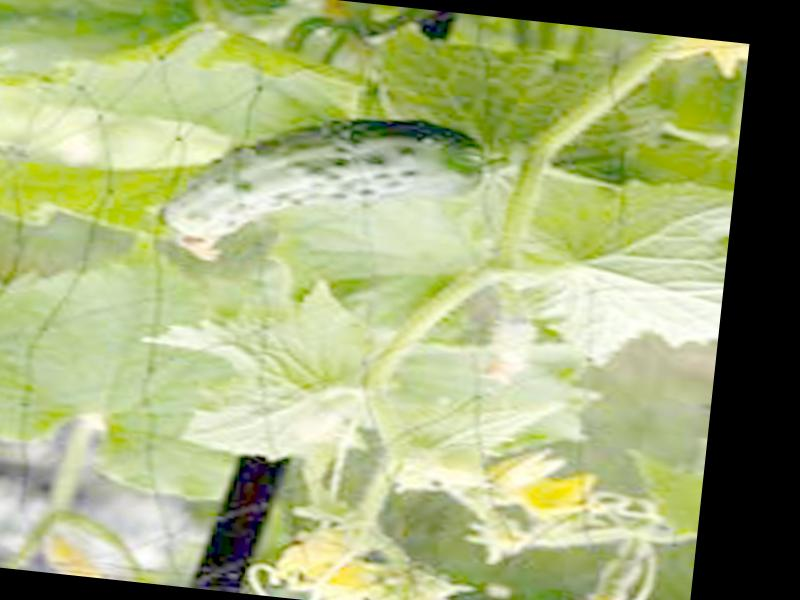Cucumber: (156, 95, 495, 290)
